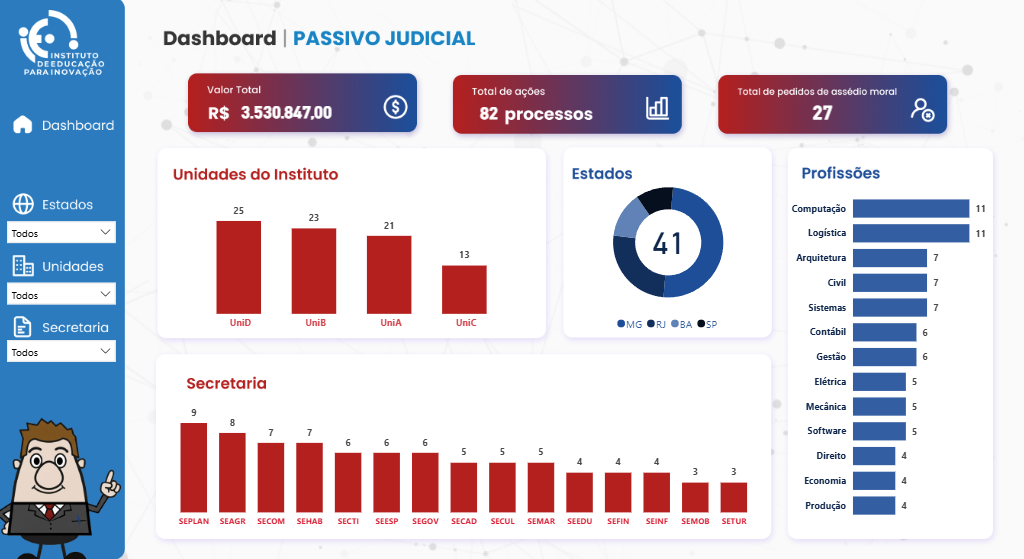

Layout of this report page (visuals, bound fields, positions):
{"tool":"powerbi","page":{"name":"Página 1","canvas":[1345,736],"ordinal":0},"visuals":[{"type":"card","fields":{"Values":["Medidas.Valor da Causa"]},"box":[281,83.4,194,128.7],"z":0},{"type":"card","fields":{"Values":["Medidas.Total Ações"]},"box":[580.1,83.4,125.1,130.5],"z":1000},{"type":"card","fields":{"Values":["Medidas.Total de Assédios"]},"box":[1023,113.3,115.1,67.1],"z":2000},{"type":"clusteredColumnChart","fields":{"Category":["Tabela1.Unidades"],"Y":["Medidas.Total Ações"]},"box":[241.1,252,447.8,191.3],"z":3000},{"type":"donutChart","fields":{"Category":["Tabela1.Estados"],"Y":["Medidas.Total Ações"]},"box":[700,223,355.6,220],"z":4000},{"type":"clusteredBarChart","fields":{"Category":["Tabela1.Profissões"],"Y":["Medidas.Total Ações"]},"box":[1033.3,235.7,270.1,457.7],"z":5000},{"type":"columnChart","fields":{"Y":["Medidas.Total Ações"],"Category":["Tabela1.Secretaria"]},"box":[213,518,794,183],"z":6000},{"type":"slicer","fields":{"Values":["Tabela1.Estados"]},"box":[0,280,163,46.7],"z":7000},{"type":"slicer","fields":{"Values":["Tabela1.Unidades"]},"box":[0,360,163,46.4],"z":8000},{"type":"slicer","fields":{"Values":["Tabela1.Secretaria"]},"box":[0,435.5,163,46.4],"z":9000},{"type":"actionButton","box":[11.1,141.1,148.9,40],"z":10000},{"type":"card","fields":{"Values":["Medidas.Nome_Estado_Lider"]},"box":[845,285,66,61],"z":11000}]}

Visuals, with their boxes on the page's 1345x736 design canvas (x1, y1, x2, y2). These are canvas units, not pixel positions in the 1024x559 screenshot, which may show the page scaled, cropped or inside an application window:
card - Medidas.Valor da Causa: [left=281, top=83, right=475, bottom=212]
card - Medidas.Total Ações: [left=580, top=83, right=705, bottom=214]
card - Medidas.Total de Assédios: [left=1023, top=113, right=1138, bottom=180]
clusteredColumnChart - Tabela1.Unidades x Medidas.Total Ações: [left=241, top=252, right=689, bottom=443]
donutChart - Tabela1.Estados x Medidas.Total Ações: [left=700, top=223, right=1056, bottom=443]
clusteredBarChart - Tabela1.Profissões x Medidas.Total Ações: [left=1033, top=236, right=1303, bottom=693]
columnChart - Medidas.Total Ações x Tabela1.Secretaria: [left=213, top=518, right=1007, bottom=701]
slicer - Tabela1.Estados: [left=0, top=280, right=163, bottom=327]
slicer - Tabela1.Unidades: [left=0, top=360, right=163, bottom=406]
slicer - Tabela1.Secretaria: [left=0, top=436, right=163, bottom=482]
actionButton: [left=11, top=141, right=160, bottom=181]
card - Medidas.Nome_Estado_Lider: [left=845, top=285, right=911, bottom=346]
